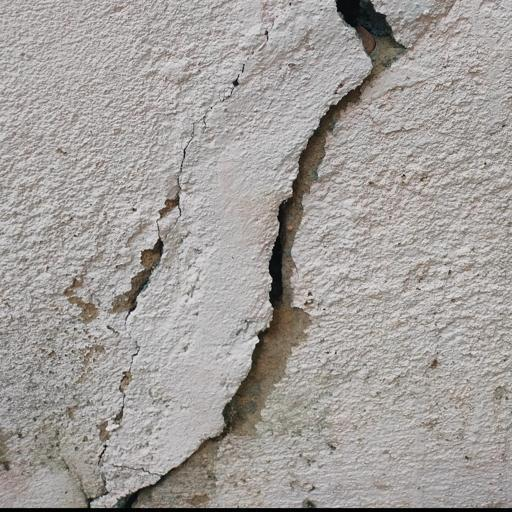major_crack: (104, 0, 424, 512)
